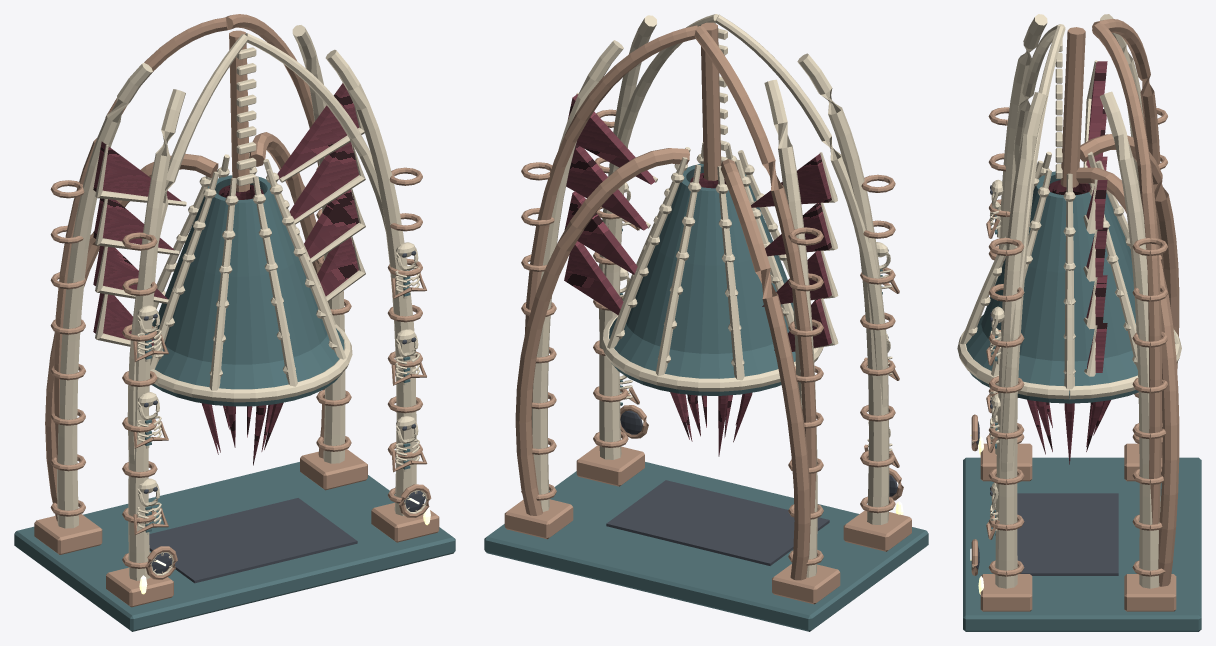
File: intake_throat_frame.glb
3 renders of one model, left to right at view 1: azimuth 30°, elevation 25°; view 2: azimuth 150°, elevation 25°; view 3: azimuth 270°, elevation 25°, orthographic.
Parts seen in each view (by area): view 1: intake_throat_frame_warm, intake_throat_frame_petrol, intake_throat_frame_worn, intake_throat_frame_bruised, intake_throat_frame_deep; view 2: intake_throat_frame_petrol, intake_throat_frame_worn, intake_throat_frame_warm, intake_throat_frame_bruised, intake_throat_frame_deep; view 3: intake_throat_frame_petrol, intake_throat_frame_warm, intake_throat_frame_worn, intake_throat_frame_deep, intake_throat_frame_bruised.
Part boxes in pixels (left/top/right/bottom): intake_throat_frame_warm: left=57, top=25, right=427, bottom=580; intake_throat_frame_petrol: left=14, top=175, right=455, bottom=631; intake_throat_frame_worn: left=34, top=14, right=439, bottom=607; intake_throat_frame_bruised: left=93, top=83, right=359, bottom=465; intake_throat_frame_deep: left=144, top=251, right=425, bottom=583; intake_throat_frame_petrol: left=484, top=163, right=928, bottom=631; intake_throat_frame_worn: left=504, top=22, right=911, bottom=604; intake_throat_frame_warm: left=531, top=14, right=898, bottom=577; intake_throat_frame_bruised: left=564, top=94, right=831, bottom=456; intake_throat_frame_deep: left=606, top=186, right=897, bottom=565; intake_throat_frame_petrol: left=963, top=171, right=1201, bottom=631; intake_throat_frame_warm: left=957, top=14, right=1181, bottom=588; intake_throat_frame_worn: left=971, top=19, right=1179, bottom=611; intake_throat_frame_deep: left=976, top=185, right=1118, bottom=575; intake_throat_frame_bruised: left=1027, top=61, right=1110, bottom=464.
Bounding box in the file's own units: 5.4 × 8.35 × 3.48.
6 materials, 1 textured.
